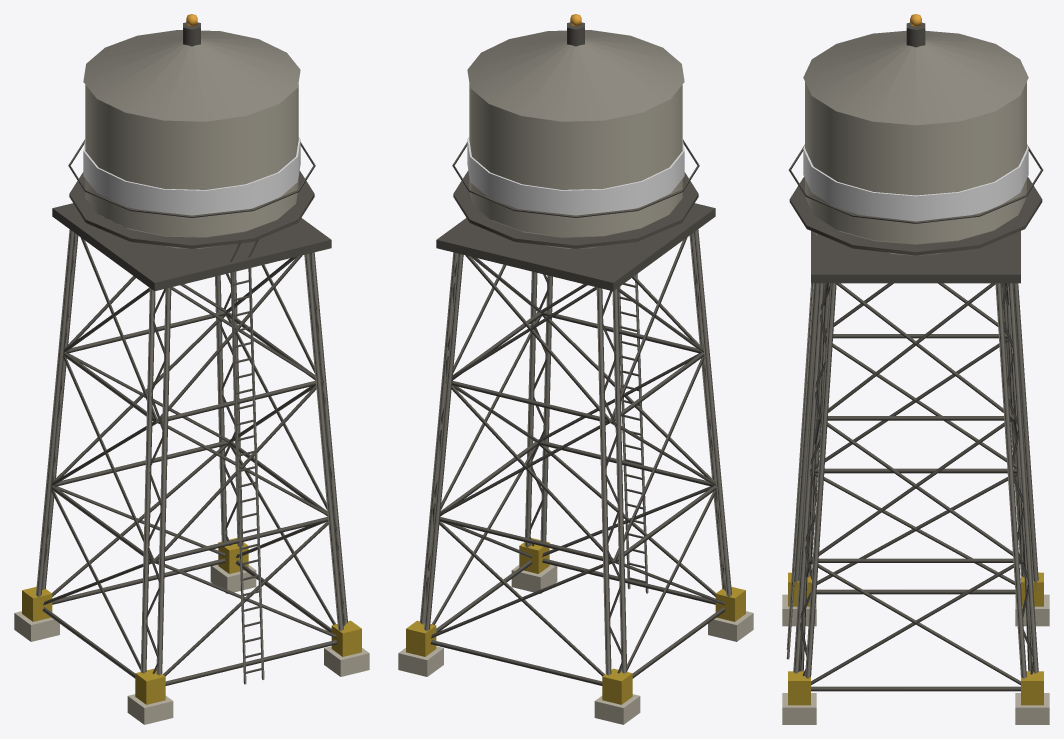
The picture shows the model from 3 angles, left to right: view 1: azimuth 30°, elevation 25°; view 2: azimuth 150°, elevation 25°; view 3: azimuth 270°, elevation 25°; orthographic projection. The views are drawn at different scales.
Parts seen in each view (by area): view 1: site_water_tower_restored; view 2: site_water_tower_restored; view 3: site_water_tower_restored.
Boxes of the visible parts, x1,y1,x2,y2 form: site_water_tower_restored: (14,14,369,724); site_water_tower_restored: (398,14,753,724); site_water_tower_restored: (782,14,1049,724).
Size of the model in its own units: 7 by 18.88 by 7.
